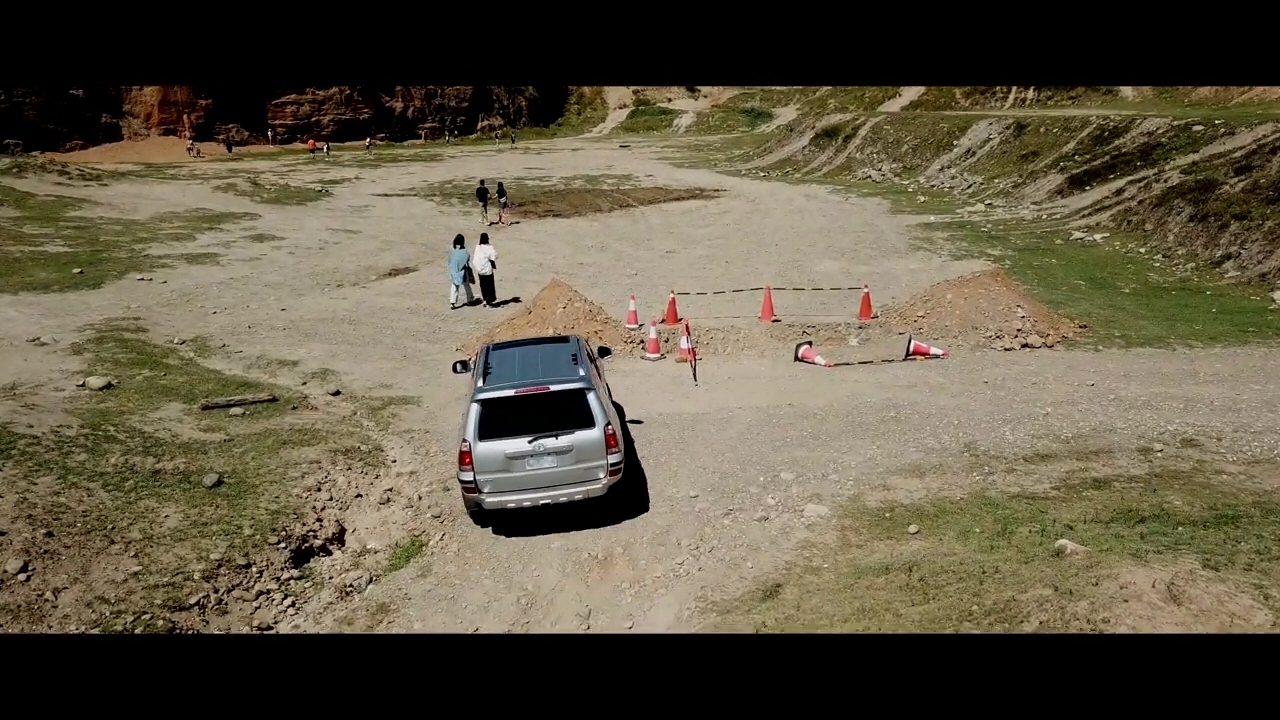araba: (452, 334, 625, 510)
insan: (449, 230, 478, 311), (476, 230, 502, 310), (474, 176, 492, 227), (360, 130, 379, 160), (497, 180, 506, 228), (511, 129, 520, 149), (495, 124, 500, 152), (322, 141, 330, 158)
